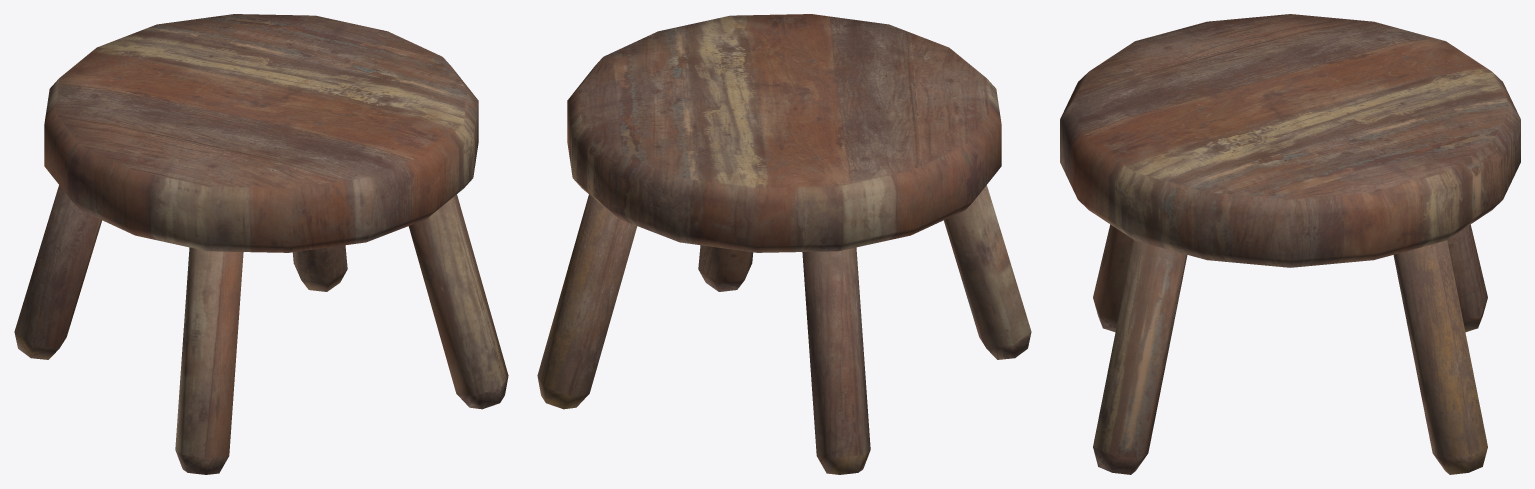
Rendered from Chair.fbx.
The picture shows the model from 3 angles, left to right: view 1: azimuth 30°, elevation 25°; view 2: azimuth 150°, elevation 25°; view 3: azimuth 270°, elevation 25°; orthographic projection. The views are drawn at different scales.
Visible parts, largest first — view 1: Chair; view 2: Chair; view 3: Chair.
Part boxes in pixels (x1,y1,x2,y2): Chair: [14, 14, 508, 474]; Chair: [537, 14, 1031, 474]; Chair: [1060, 14, 1520, 474].
Bounding box in the file's own units: 0.0772 × 0.0772 × 0.0553.
1 material, 1 textured.
